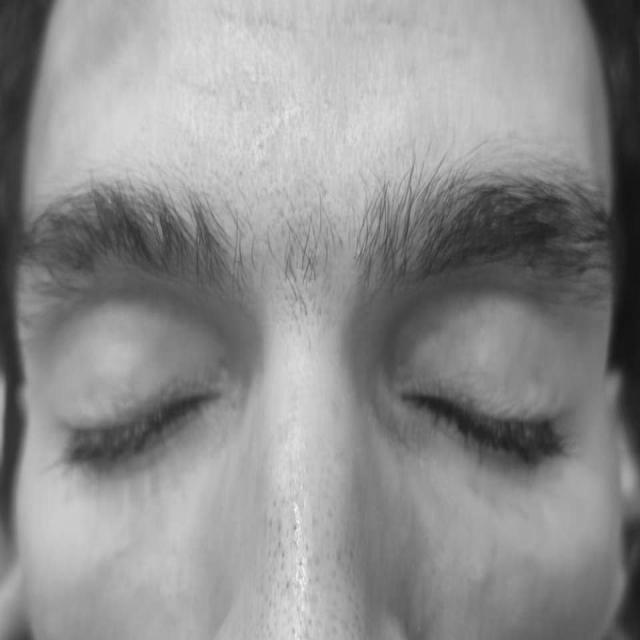real: (43, 302, 591, 506)
